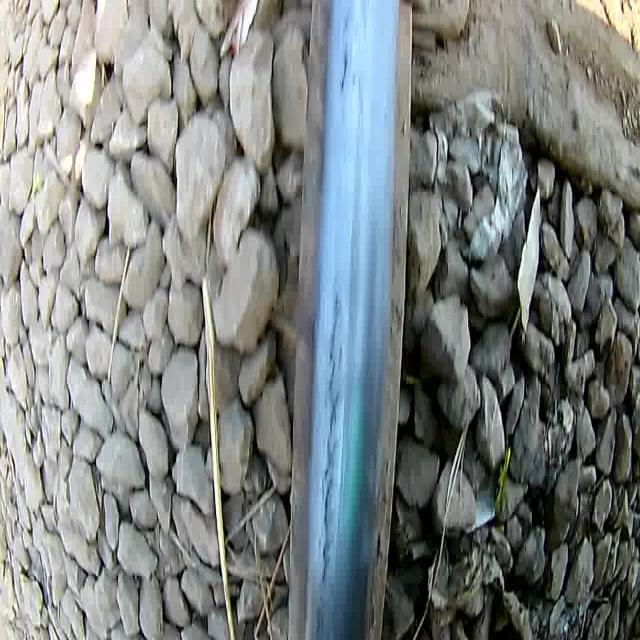Grooves: (317, 288, 346, 590), (337, 36, 352, 104)
